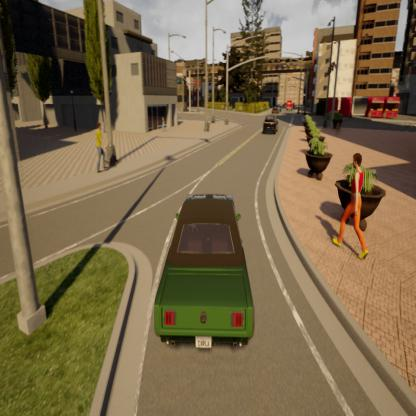Cars: (153, 196, 255, 350), (263, 114, 280, 135)
Pedestrian: (332, 150, 369, 260), (94, 122, 108, 174), (160, 118, 168, 135)
